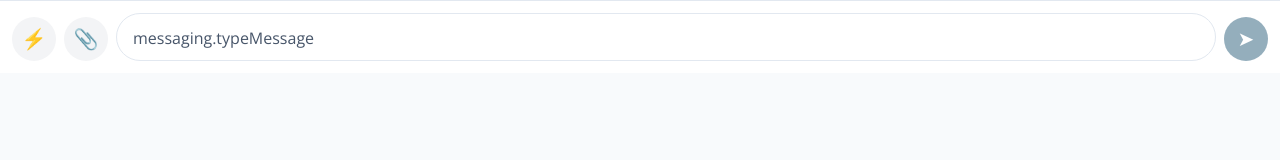
MessageInput › Quick Replies › shows quick reply dropdown when button clicked
Click the button named "quick". click: (34, 39)
box: left=12, top=17, right=56, bottom=61
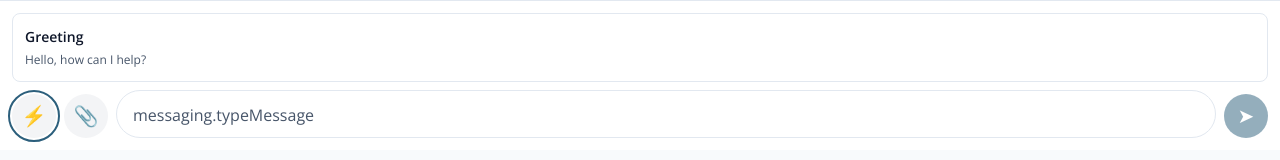
Result: the text "Greeting" is shown at left=25, top=26, right=83, bottom=47
